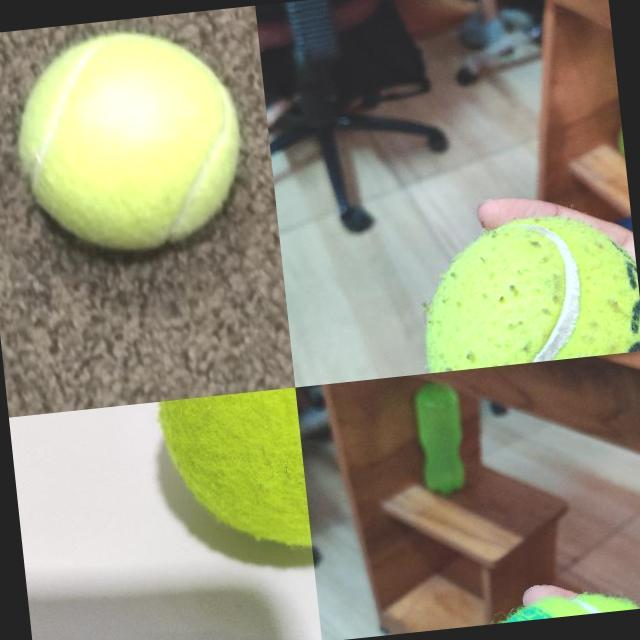Tennis Ball: (7, 21, 250, 262), (415, 207, 640, 372), (152, 387, 312, 567)
